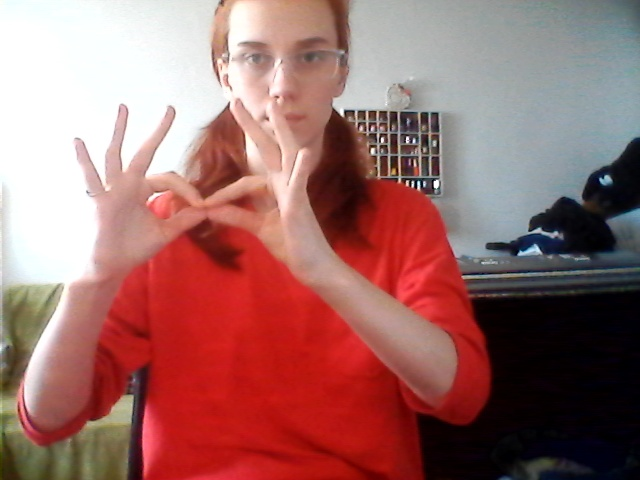b: (65, 97, 334, 294)
